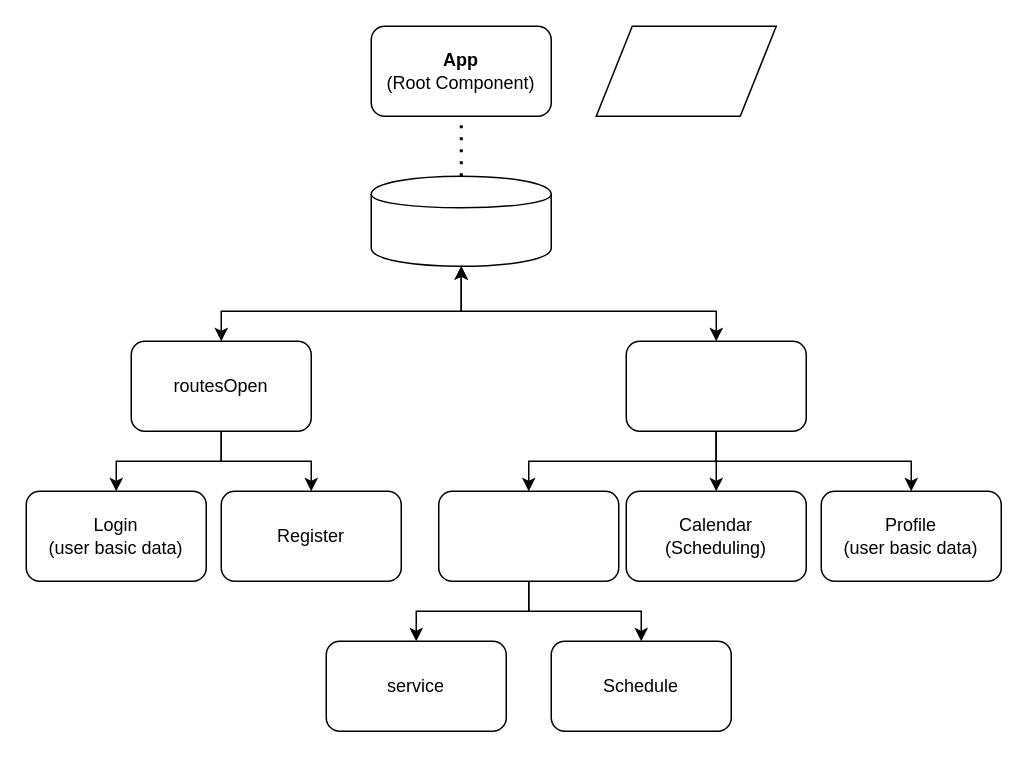
This 1028x758 diagram has some shape labels left out. The centre of each missing label's shape, as x and y in pixels:
API Service (Axios): pixel 685 70
Appointments (Listing/CRUD): pixel 528 535
AuthProvider (Context): pixel 460 220
routesPrivate: pixel 715 385
